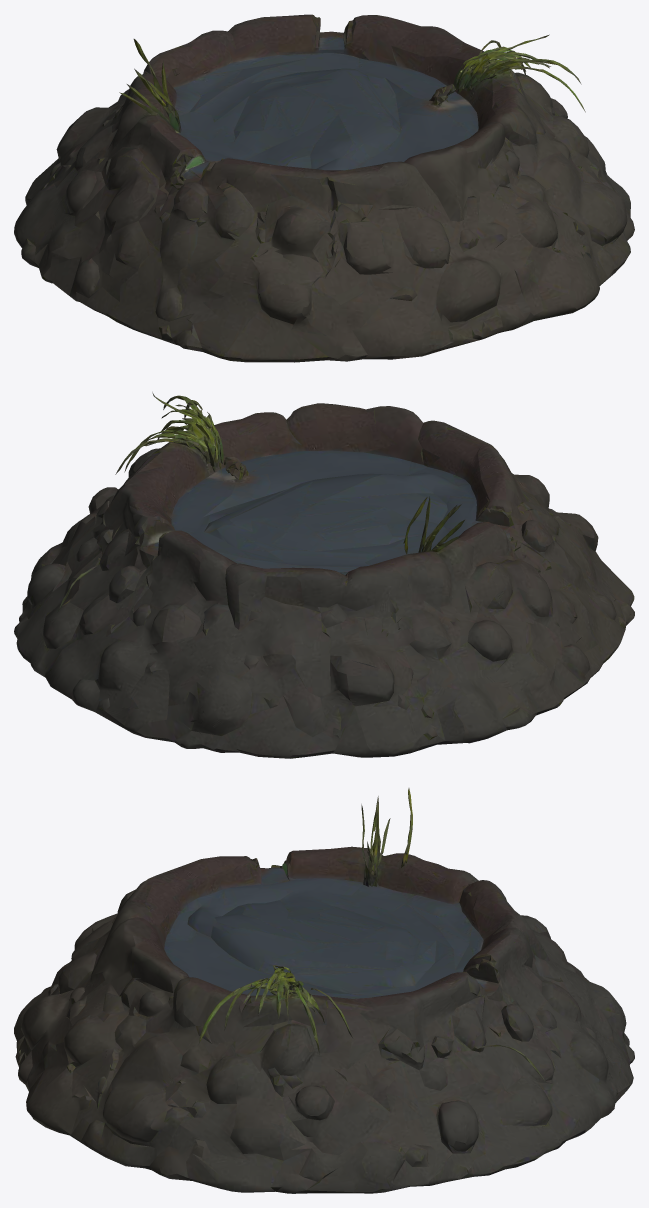
Rendered from min4-mud-final.glb.
The picture shows the model from 3 angles, top to bottom: view 1: azimuth 30°, elevation 25°; view 2: azimuth 150°, elevation 25°; view 3: azimuth 270°, elevation 25°; orthographic projection.
Parts seen in each view (by area): view 1: Mesh_0; view 2: Mesh_0; view 3: Mesh_0.
Boxes of the visible parts, left/top/right/bottom form: Mesh_0: left=14, top=14, right=634, bottom=362; Mesh_0: left=14, top=392, right=634, bottom=758; Mesh_0: left=14, top=788, right=634, bottom=1193.
Bounding box in the file's own units: 0.8049 × 0.3 × 0.8115.
Materials: 1 (1 with a texture image).
